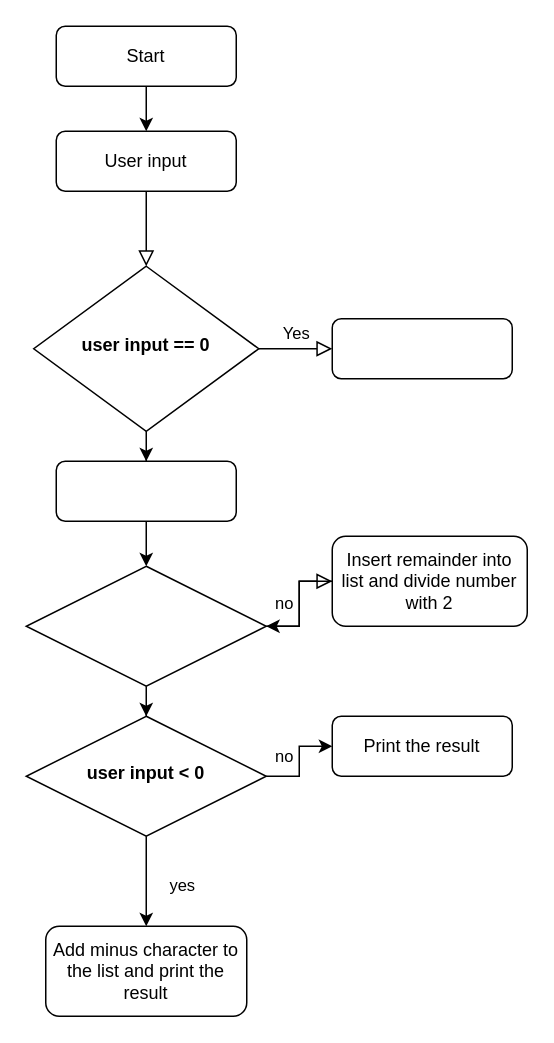
This 554x1043 diagram has some shape labels left out. The shapes that lost their labels are listed below. From the top down, each one's centre as x and y in pixels, then its label:
At (421,348): "Print 0".
At (145,490): "Add user input into number variable".
At (145,625): "number != 0".
